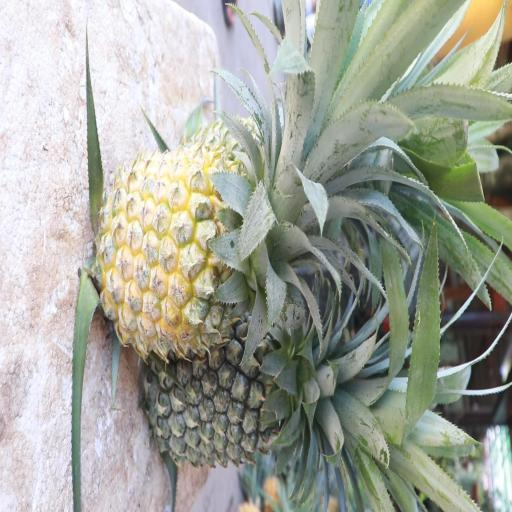------------------------------: (147, 344, 338, 471)
Pineapple - v8 v1: (97, 142, 326, 352)
